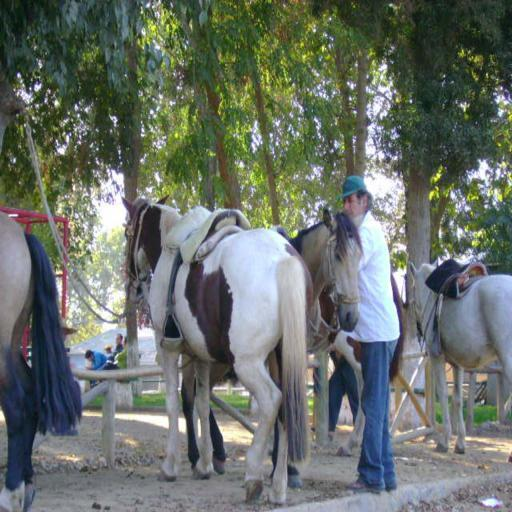horse: (120, 190, 313, 504), (180, 206, 368, 490), (0, 210, 79, 511), (406, 259, 512, 462)
